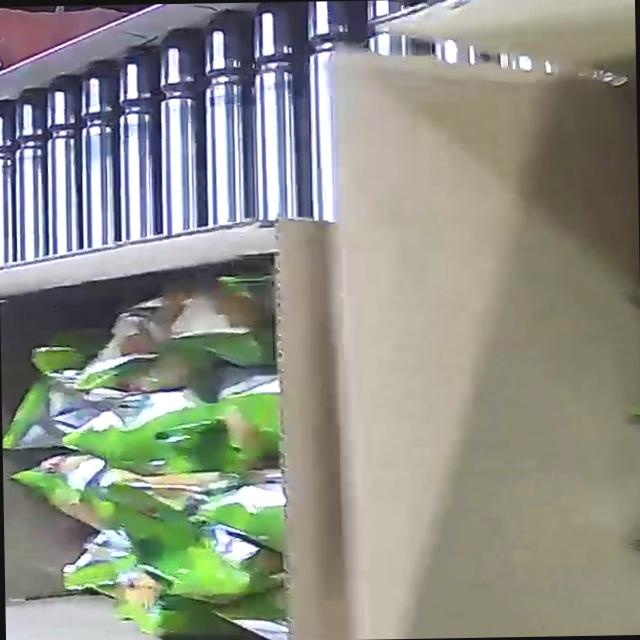yogurt: (0, 267, 288, 640), (557, 91, 640, 635)
